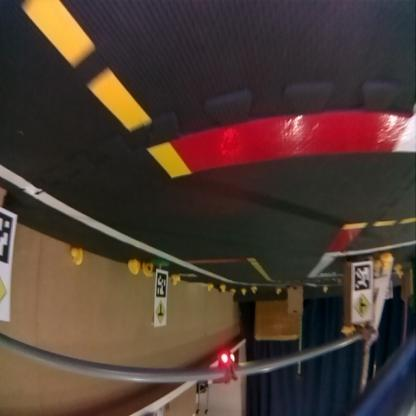Duckie: (142, 263, 154, 277), (127, 260, 138, 274), (72, 250, 82, 264), (171, 276, 179, 286), (207, 283, 212, 293), (220, 286, 224, 294)
Intersection sign: (353, 294, 371, 320), (154, 301, 166, 326)
QR code: (0, 211, 13, 264), (352, 266, 372, 290), (156, 272, 167, 298)
Traffic light: (218, 351, 236, 385)
